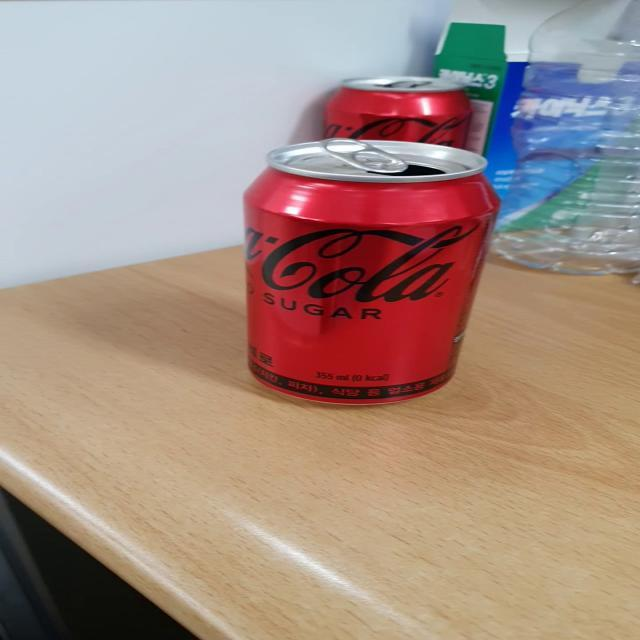coca-cola: (234, 132, 511, 412)
